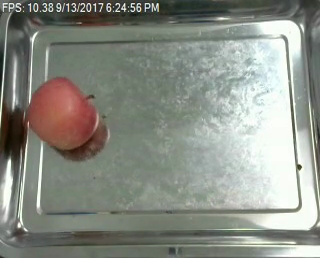Apple: (22, 74, 97, 152)
